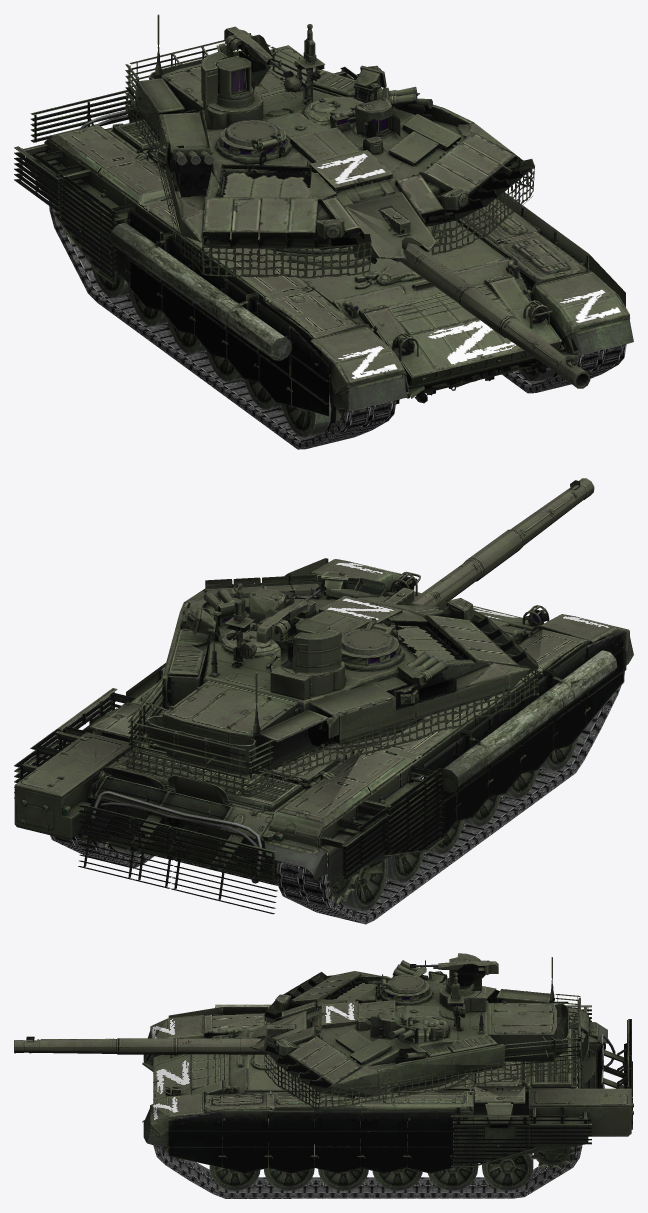
Rendered from russian_t-90m3.glb.
The picture shows the model from 3 angles, top to bottom: view 1: azimuth 30°, elevation 25°; view 2: azimuth 150°, elevation 25°; view 3: azimuth 270°, elevation 25°; orthographic projection. The views are drawn at different scales.
Visible parts, largest first — view 1: t90m_body, Mesh_0023_b63bbc8db9168ac9e99ce64a6886bf7b_0, Mesh_0042_7ddde163cf81bfce9440d09ca3685a5b_0, Mesh_0043_b63bbc8db9168ac9e99ce64a6886bf7b_0, Mesh_0000_b63bbc8db9168ac9e99ce64a6886bf7b_0, Mesh_0037_b63bbc8db9168ac9e99ce64a6886bf7b_0, Mesh_0008_b63bbc8db9168ac9e99ce64a6886bf7b_0, Mesh_0030_b63bbc8db9168ac9e99ce64a6886bf7b_0, Mesh_0015_b63bbc8db9168ac9e99ce64a6886bf7b_0, Mesh_0039_b63bbc8db9168ac9e99ce64a6886bf7b_0, Mesh_0028_b63bbc8db9168ac9e99ce64a6886bf7b_0, Mesh_0026_b63bbc8db9168ac9e99ce64a6886bf7b_0; view 2: t90m_body, Mesh_0023_b63bbc8db9168ac9e99ce64a6886bf7b_0, Mesh_0042_7ddde163cf81bfce9440d09ca3685a5b_0, Mesh_0043_b63bbc8db9168ac9e99ce64a6886bf7b_0, Mesh_0039_b63bbc8db9168ac9e99ce64a6886bf7b_0, Mesh_0037_b63bbc8db9168ac9e99ce64a6886bf7b_0, Mesh_0000_b63bbc8db9168ac9e99ce64a6886bf7b_0, Mesh_0030_b63bbc8db9168ac9e99ce64a6886bf7b_0, Mesh_0015_b63bbc8db9168ac9e99ce64a6886bf7b_0, Mesh_0028_b63bbc8db9168ac9e99ce64a6886bf7b_0, Mesh_0008_b63bbc8db9168ac9e99ce64a6886bf7b_0; view 3: t90m_body, Mesh_0023_b63bbc8db9168ac9e99ce64a6886bf7b_0, Mesh_0037_b63bbc8db9168ac9e99ce64a6886bf7b_0, Mesh_0042_7ddde163cf81bfce9440d09ca3685a5b_0, Mesh_0043_b63bbc8db9168ac9e99ce64a6886bf7b_0, Mesh_0000_b63bbc8db9168ac9e99ce64a6886bf7b_0, Mesh_0039_b63bbc8db9168ac9e99ce64a6886bf7b_0, Mesh_0008_b63bbc8db9168ac9e99ce64a6886bf7b_0, Mesh_0030_b63bbc8db9168ac9e99ce64a6886bf7b_0, Mesh_0015_b63bbc8db9168ac9e99ce64a6886bf7b_0, Mesh_0028_b63bbc8db9168ac9e99ce64a6886bf7b_0, Mesh_0026_b63bbc8db9168ac9e99ce64a6886bf7b_0.
Part boxes in pixels (x1,y1,x2,y2): t90m_body: (14,45,633,416); Mesh_0023_b63bbc8db9168ac9e99ce64a6886bf7b_0: (125,14,534,249); Mesh_0042_7ddde163cf81bfce9440d09ca3685a5b_0: (48,200,626,449); Mesh_0043_b63bbc8db9168ac9e99ce64a6886bf7b_0: (125,51,534,278); Mesh_0000_b63bbc8db9168ac9e99ce64a6886bf7b_0: (397,243,590,388); Mesh_0037_b63bbc8db9168ac9e99ce64a6886bf7b_0: (54,205,573,437); Mesh_0008_b63bbc8db9168ac9e99ce64a6886bf7b_0: (344,191,436,263); Mesh_0030_b63bbc8db9168ac9e99ce64a6886bf7b_0: (201,34,273,105); Mesh_0015_b63bbc8db9168ac9e99ce64a6886bf7b_0: (224,119,283,149); Mesh_0039_b63bbc8db9168ac9e99ce64a6886bf7b_0: (112,100,164,168); Mesh_0028_b63bbc8db9168ac9e99ce64a6886bf7b_0: (224,26,293,77); Mesh_0026_b63bbc8db9168ac9e99ce64a6886bf7b_0: (305,96,363,121); t90m_body: (14,558,633,914); Mesh_0023_b63bbc8db9168ac9e99ce64a6886bf7b_0: (128,570,538,780); Mesh_0042_7ddde163cf81bfce9440d09ca3685a5b_0: (50,671,624,924); Mesh_0043_b63bbc8db9168ac9e99ce64a6886bf7b_0: (126,581,538,797); Mesh_0039_b63bbc8db9168ac9e99ce64a6886bf7b_0: (91,741,340,817); Mesh_0037_b63bbc8db9168ac9e99ce64a6886bf7b_0: (102,737,577,911); Mesh_0000_b63bbc8db9168ac9e99ce64a6886bf7b_0: (402,478,594,612); Mesh_0030_b63bbc8db9168ac9e99ce64a6886bf7b_0: (265,608,341,673); Mesh_0015_b63bbc8db9168ac9e99ce64a6886bf7b_0: (341,618,397,654); Mesh_0028_b63bbc8db9168ac9e99ce64a6886bf7b_0: (256,586,326,647); Mesh_0008_b63bbc8db9168ac9e99ce64a6886bf7b_0: (357,587,438,611); t90m_body: (142,1001,633,1173); Mesh_0023_b63bbc8db9168ac9e99ce64a6886bf7b_0: (264,957,580,1098); Mesh_0037_b63bbc8db9168ac9e99ce64a6886bf7b_0: (162,1132,574,1190); Mesh_0042_7ddde163cf81bfce9440d09ca3685a5b_0: (153,1118,582,1198); Mesh_0043_b63bbc8db9168ac9e99ce64a6886bf7b_0: (264,975,581,1112); Mesh_0000_b63bbc8db9168ac9e99ce64a6886bf7b_0: (14,1036,306,1054); Mesh_0039_b63bbc8db9168ac9e99ce64a6886bf7b_0: (476,1028,603,1089); Mesh_0008_b63bbc8db9168ac9e99ce64a6886bf7b_0: (250,1011,310,1053); Mesh_0030_b63bbc8db9168ac9e99ce64a6886bf7b_0: (445,953,485,990); Mesh_0015_b63bbc8db9168ac9e99ce64a6886bf7b_0: (381,974,426,994); Mesh_0028_b63bbc8db9168ac9e99ce64a6886bf7b_0: (410,960,498,976); Mesh_0026_b63bbc8db9168ac9e99ce64a6886bf7b_0: (409,1017,446,1036).
Size of the model in its own units: 83.59 by 62.18 by 185.
Materials: 2 (2 with a texture image).
